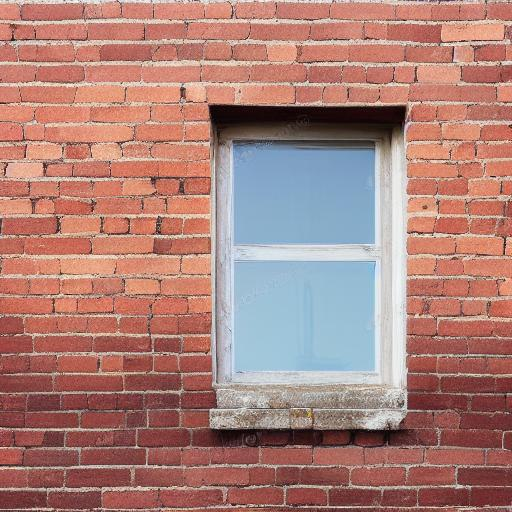Window: (207, 95, 412, 436)
